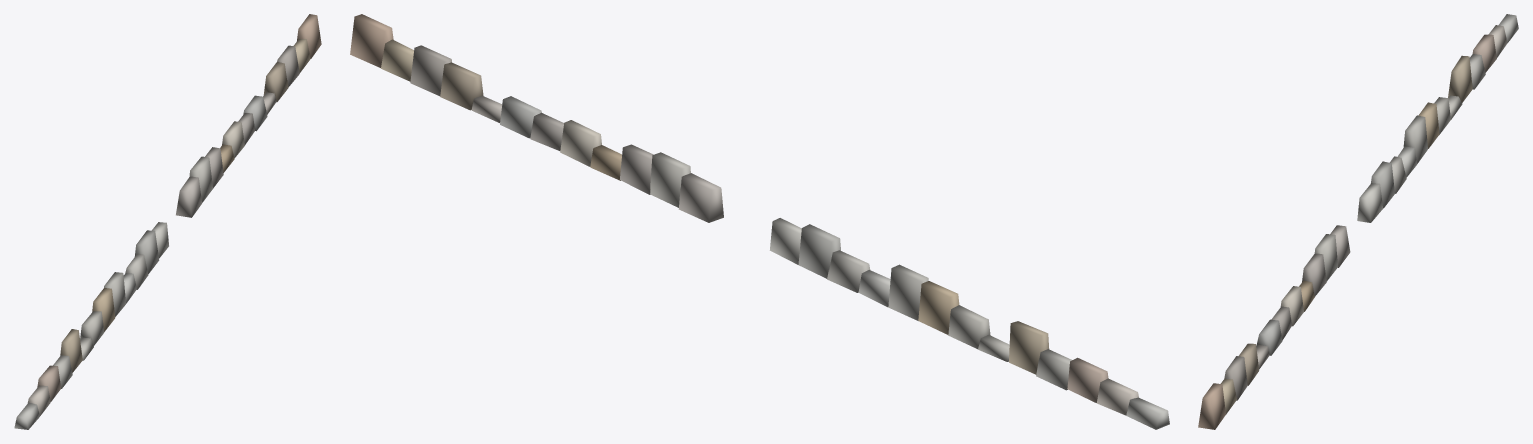
The model's file is farm_13_22_far.glb.
3 views of the same model, side by side, from view 1: azimuth 90°, elevation 25°; view 2: azimuth 150°, elevation 25°; view 3: azimuth 270°, elevation 25° (orthographic). The views are drawn at different scales.
Visible parts, largest first — view 1: geometry_0; view 2: geometry_0; view 3: geometry_0.
Part boxes in pixels (box(x1,y1,x2,y2)): geometry_0: box(14, 14, 321, 429); geometry_0: box(350, 14, 1169, 429); geometry_0: box(1198, 14, 1518, 429).
Bounding box in the file's own units: 40.06 × 1.56 × 13.44.
